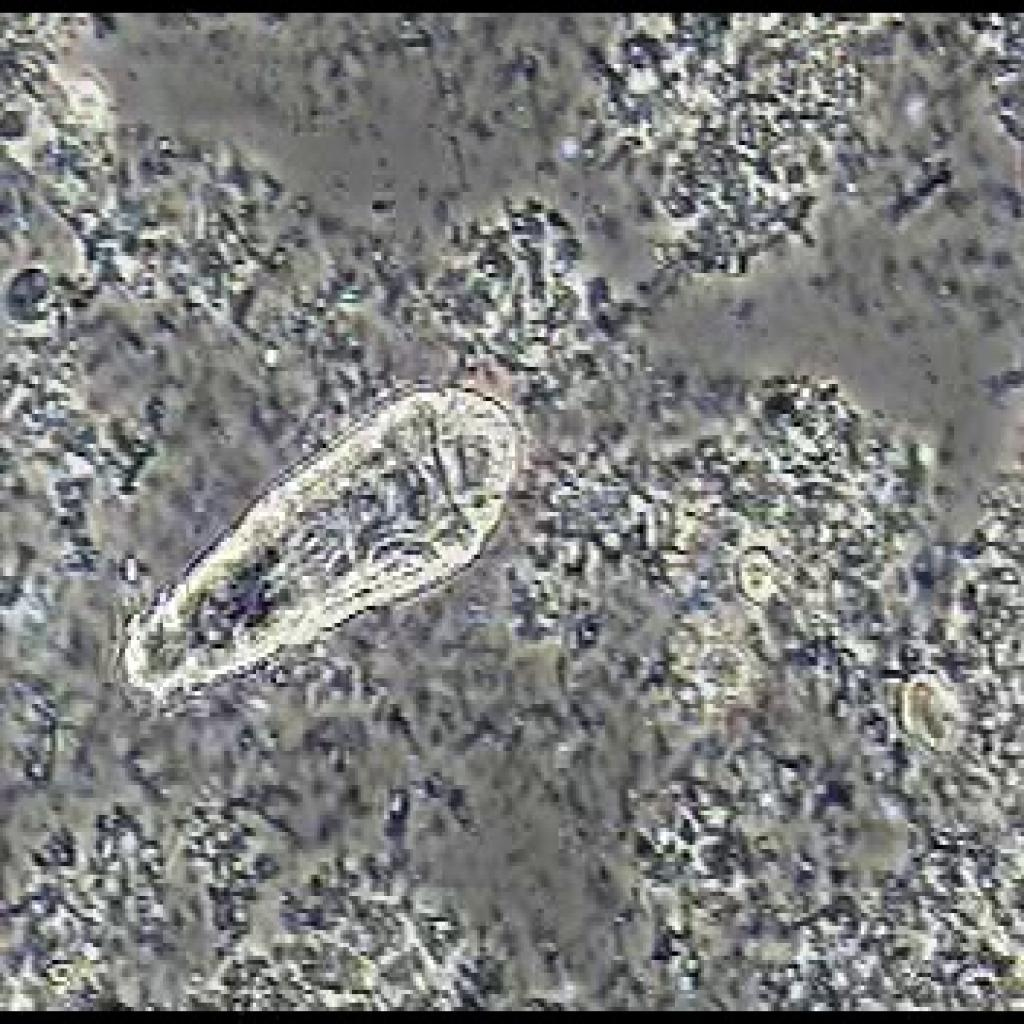Rotatoria: (108, 344, 541, 728)
